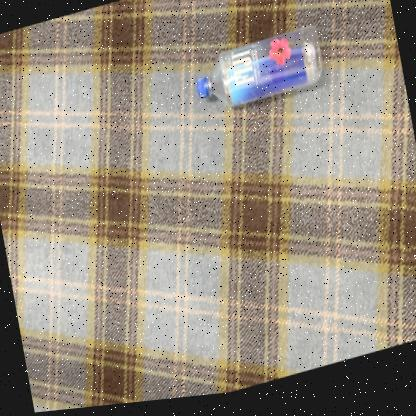Plastic: (196, 31, 322, 110)
